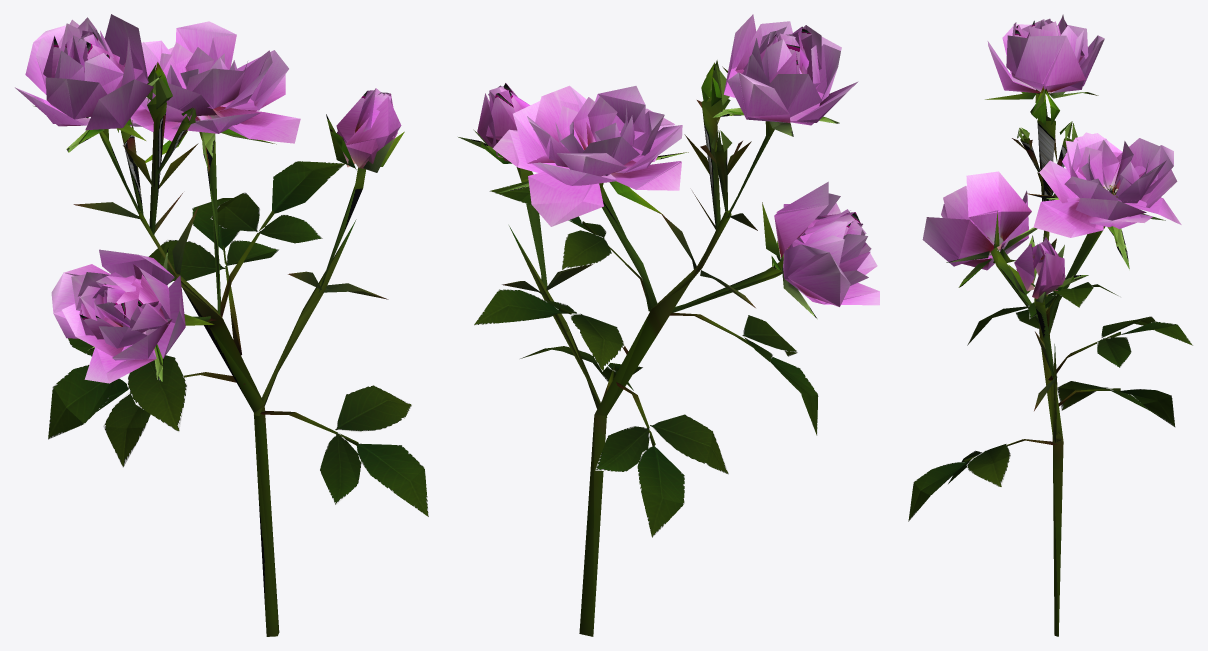
File: Pink_Rose.fbx
The picture shows the model from 3 angles, left to right: view 1: azimuth 30°, elevation 25°; view 2: azimuth 150°, elevation 25°; view 3: azimuth 270°, elevation 25°; orthographic projection. The views are drawn at different scales.
Visible parts, largest first — view 1: Pink_Rose; view 2: Pink_Rose; view 3: Pink_Rose.
Part boxes in pixels (box(x1,y1,x2,y2)): Pink_Rose: box(15, 14, 428, 636); Pink_Rose: box(458, 14, 879, 636); Pink_Rose: box(908, 14, 1193, 636).
Size of the model in its own units: 4.7 by 7.67 by 3.67.
